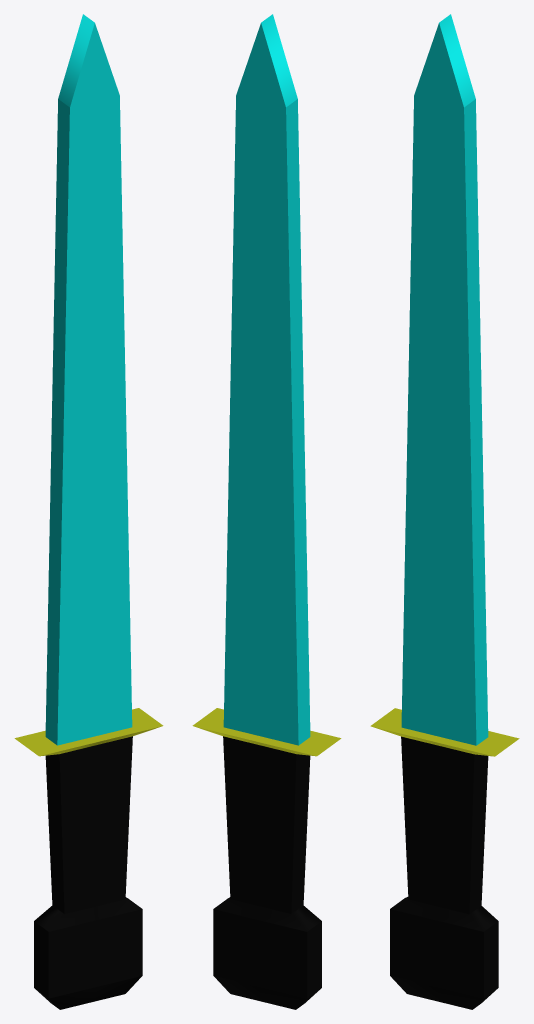
File: ESPADA.fbx
The picture shows the model from 3 angles, left to right: view 1: azimuth 30°, elevation 25°; view 2: azimuth 150°, elevation 25°; view 3: azimuth 330°, elevation 25°; orthographic projection.
Parts seen in each view (by area): view 1: Cube.001, Cube.002, Cube.003, Cube; view 2: Cube.001, Cube.002, Cube.003, Cube; view 3: Cube.001, Cube.002, Cube.003, Cube.
Part boxes in pixels (x1=…): Cube.001: x1=45, y1=14, x2=132, y2=745; Cube.002: x1=45, y1=736, x2=132, y2=913; Cube.003: x1=34, y1=897, x2=142, y2=1009; Cube: x1=14, y1=708, x2=163, y2=756; Cube.001: x1=223, y1=14, x2=310, y2=745; Cube.002: x1=223, y1=736, x2=310, y2=913; Cube.003: x1=213, y1=897, x2=321, y2=1009; Cube: x1=192, y1=708, x2=341, y2=756; Cube.001: x1=401, y1=14, x2=488, y2=745; Cube.002: x1=401, y1=736, x2=488, y2=914; Cube.003: x1=390, y1=897, x2=498, y2=1009; Cube: x1=370, y1=708, x2=519, y2=756.
Size of the model in its own units: 28.06 by 211 by 9.63.
